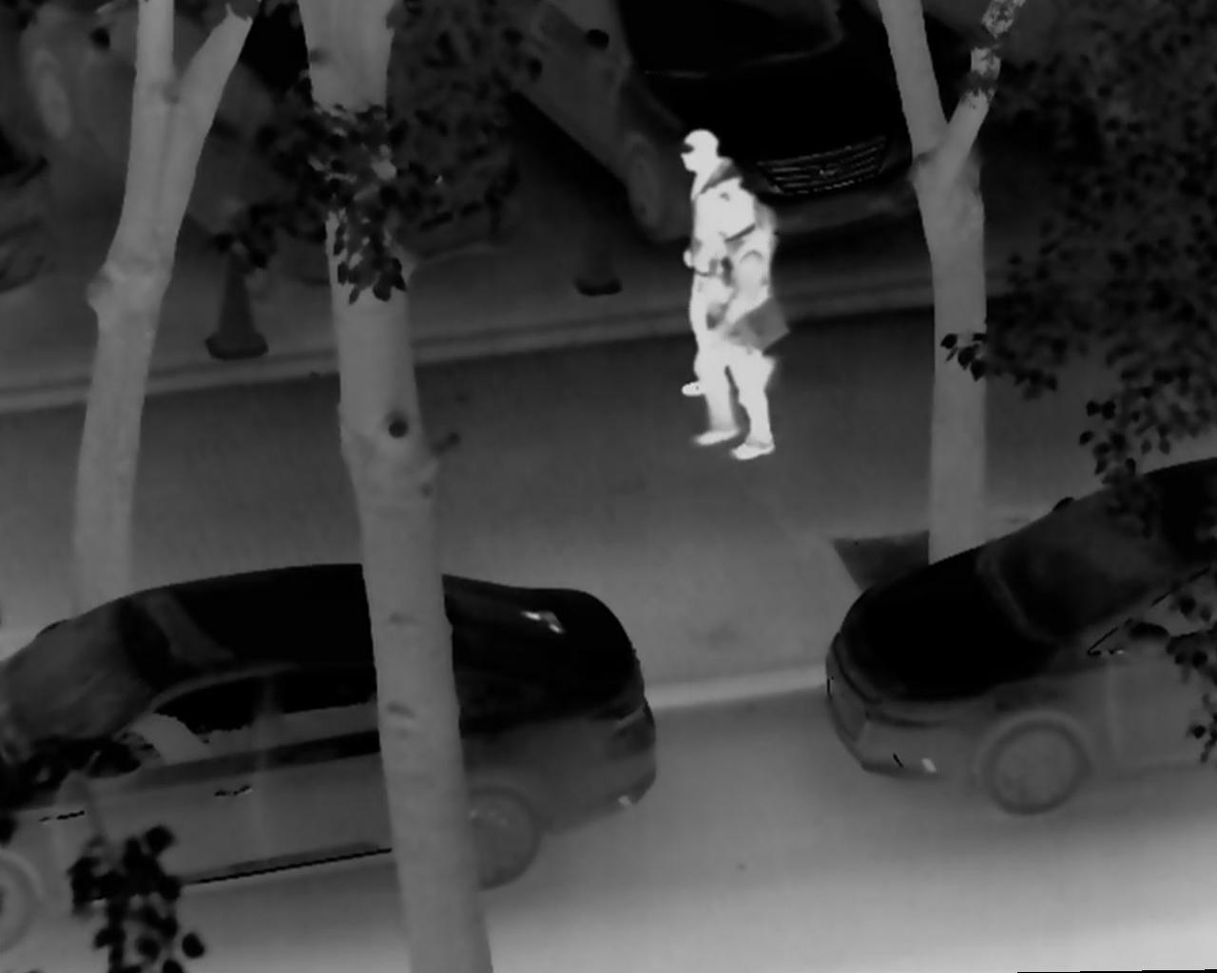person: (690, 185, 781, 467), (668, 125, 756, 398)
